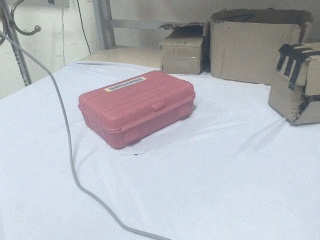box: (73, 69, 200, 151), (210, 8, 312, 84), (269, 41, 320, 125), (159, 22, 208, 75)
